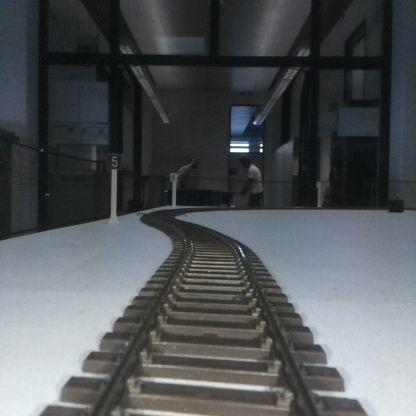black-info-5: (106, 154, 122, 221)
